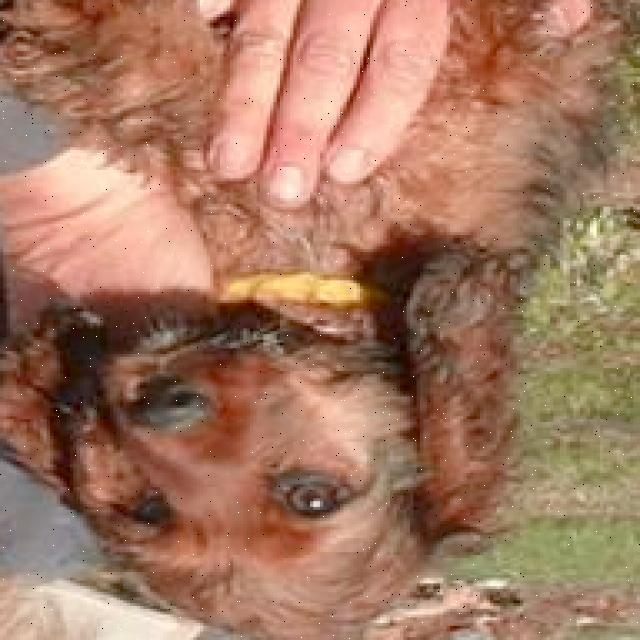Dog: (54, 317, 464, 640)
